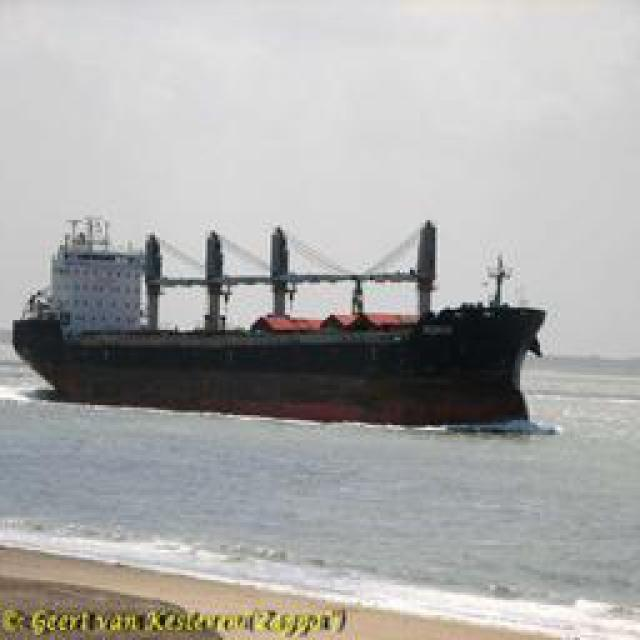Ship: (16, 208, 554, 416)
